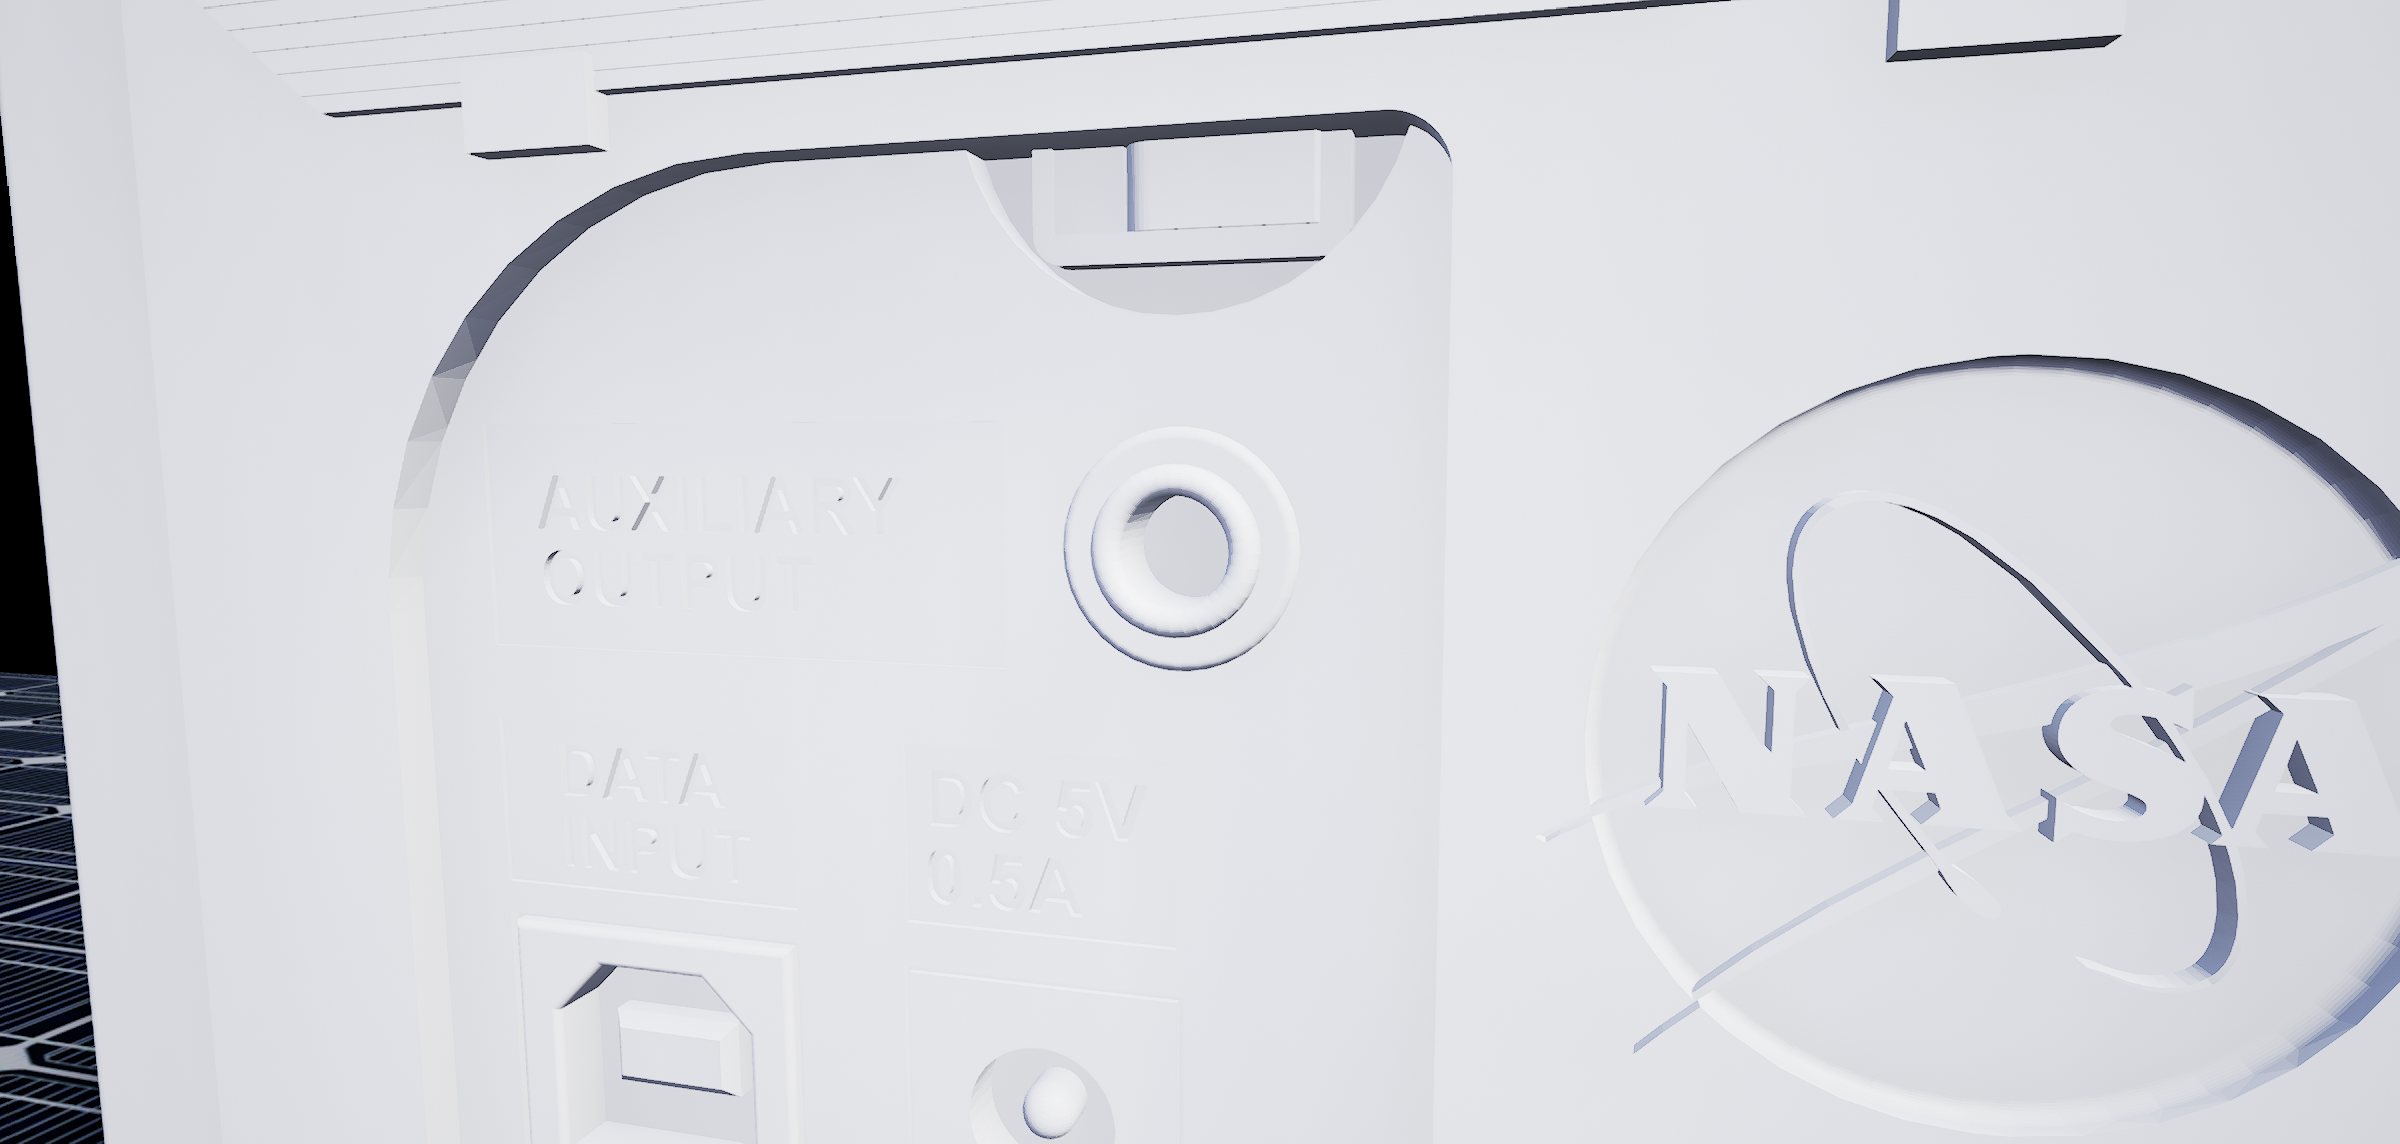aux: (1045, 407, 1326, 695)
dc: (960, 1014, 1120, 1144)
usb: (542, 962, 765, 1144)
